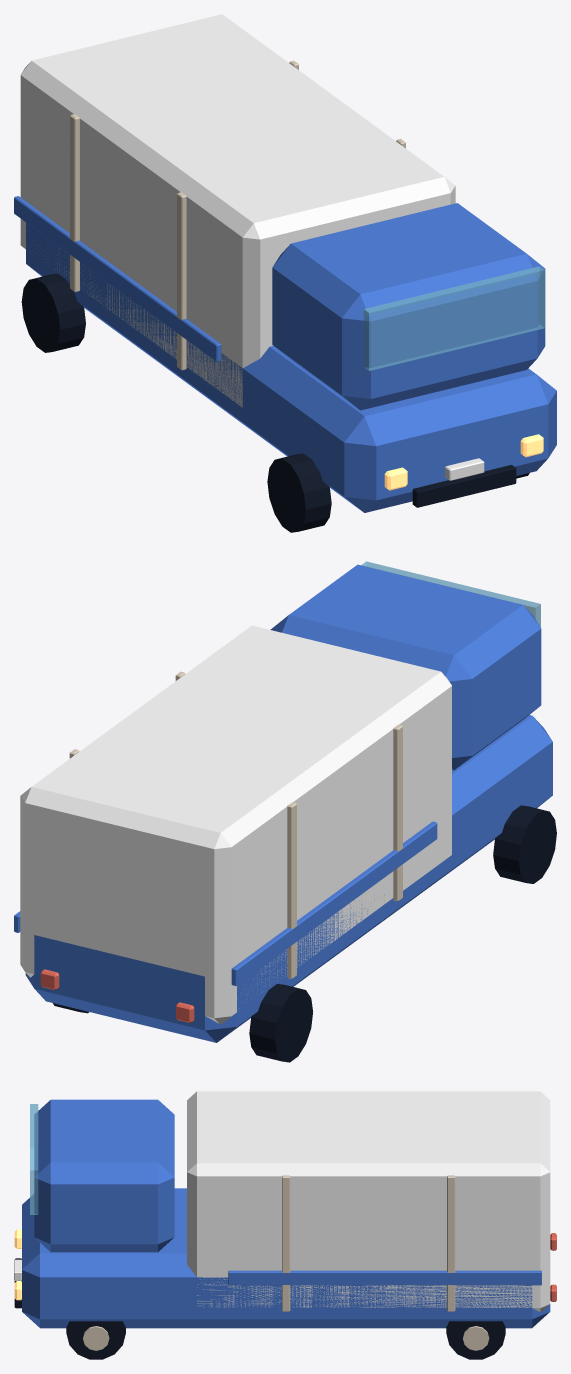
File: town-truck.glb
3 renders of one model, top to bottom at view 1: azimuth 30°, elevation 25°; view 2: azimuth 150°, elevation 25°; view 3: azimuth 270°, elevation 25°, orthographic. The views are drawn at different scales.
Visible parts, largest first — view 1: BODY_Traffic0_truck; view 2: BODY_Traffic0_truck; view 3: BODY_Traffic0_truck.
Part boxes in pixels (<box>): BODY_Traffic0_truck: <box>14,14,556,532</box>; BODY_Traffic0_truck: <box>14,561,556,1062</box>; BODY_Traffic0_truck: <box>14,1091,556,1359</box>.
Size of the model in its own units: 2.64 by 2.59 by 6.58.
